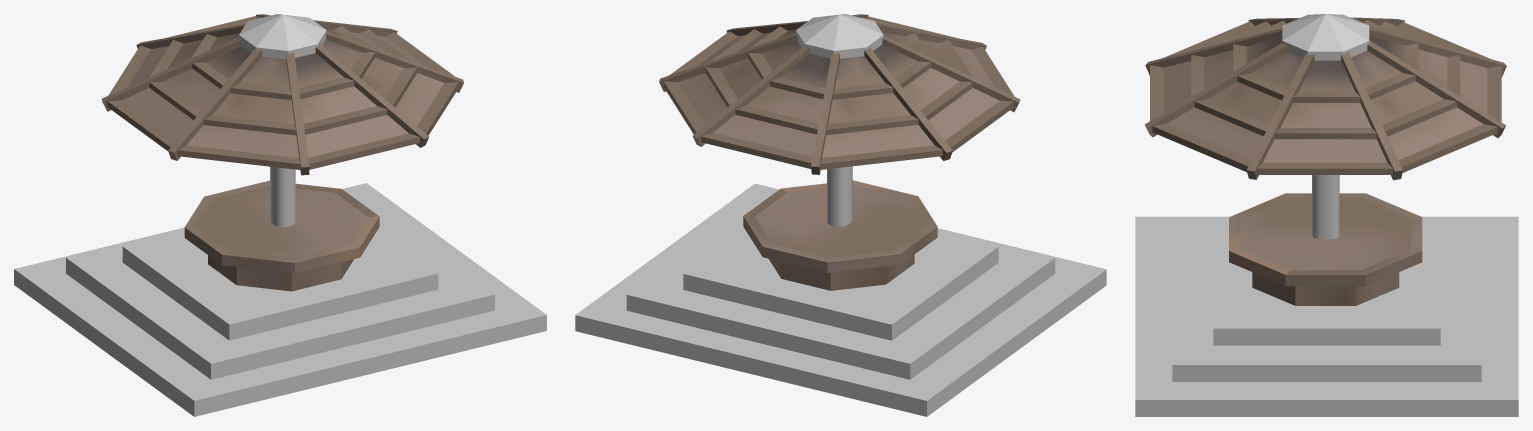
Rendered from Prop_ParkShade03.fbx.
3 views of the same model, side by side, from view 1: azimuth 30°, elevation 25°; view 2: azimuth 150°, elevation 25°; view 3: azimuth 270°, elevation 25° (orthographic). The views are drawn at different scales.
Visible parts, largest first — view 1: Prop_ParkShade03; view 2: Prop_ParkShade03; view 3: Prop_ParkShade03.
Boxes of the visible parts, x1=… form: Prop_ParkShade03: x1=14, y1=14, x2=546, y2=416; Prop_ParkShade03: x1=575, y1=14, x2=1106, y2=416; Prop_ParkShade03: x1=1135, y1=14, x2=1518, y2=416.
Size of the model in its own units: 6.17 by 5.08 by 5.46.
